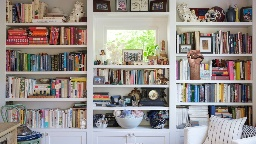Pugno: (185, 48, 204, 65)
